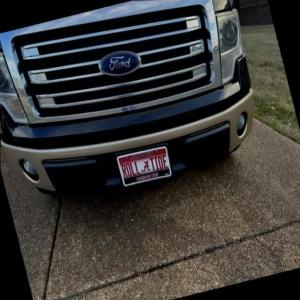Plate: (116, 146, 172, 187)
